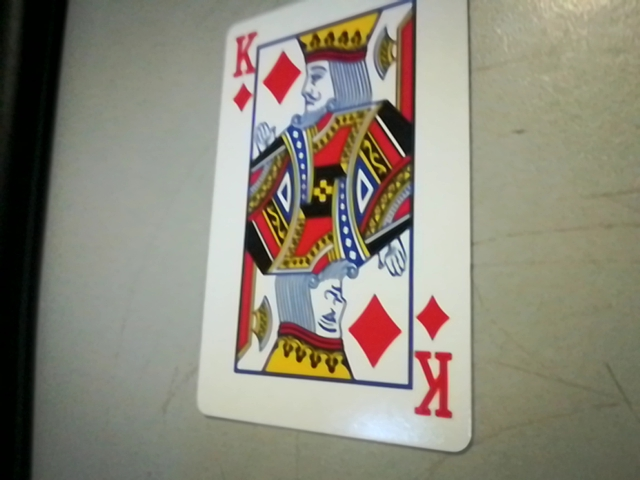fk k: (406, 293, 464, 430)
